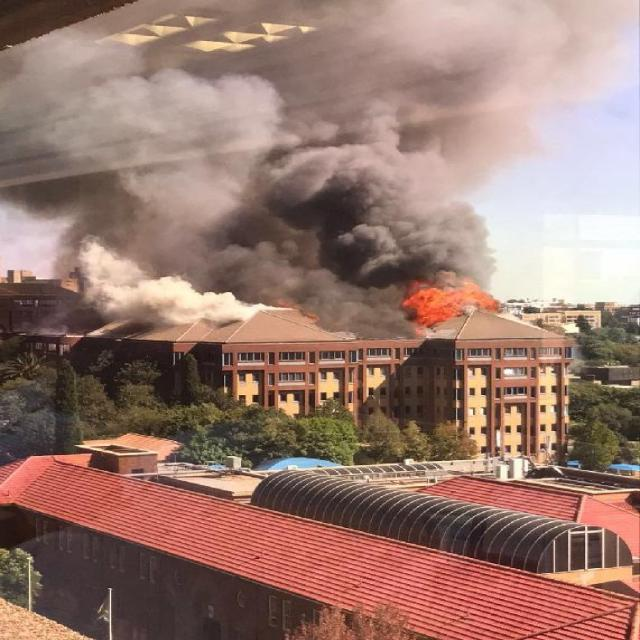fire: (387, 271, 529, 342)
